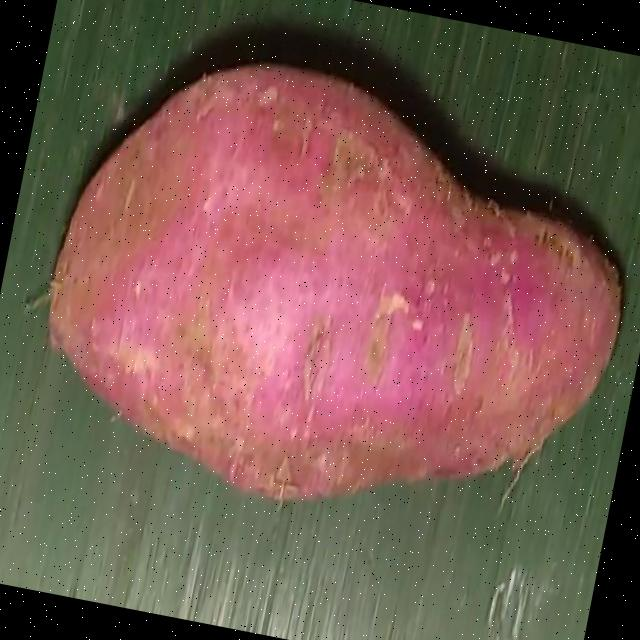Sweet Potato: (41, 61, 625, 500)
